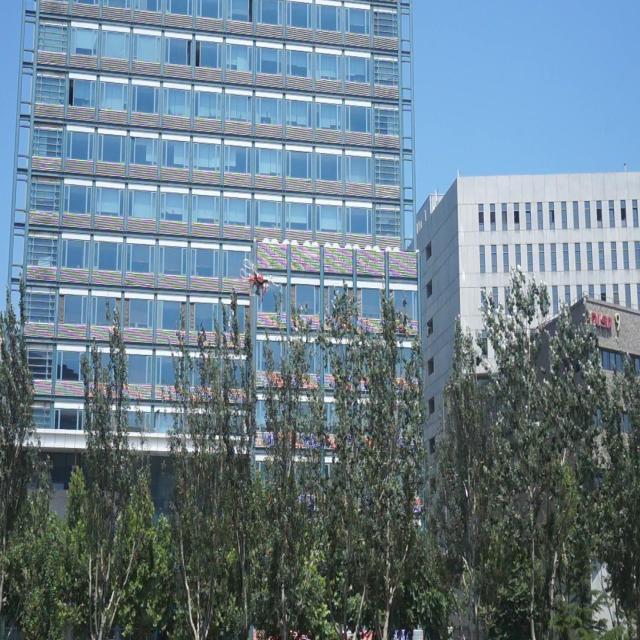drone: (238, 255, 278, 307)
